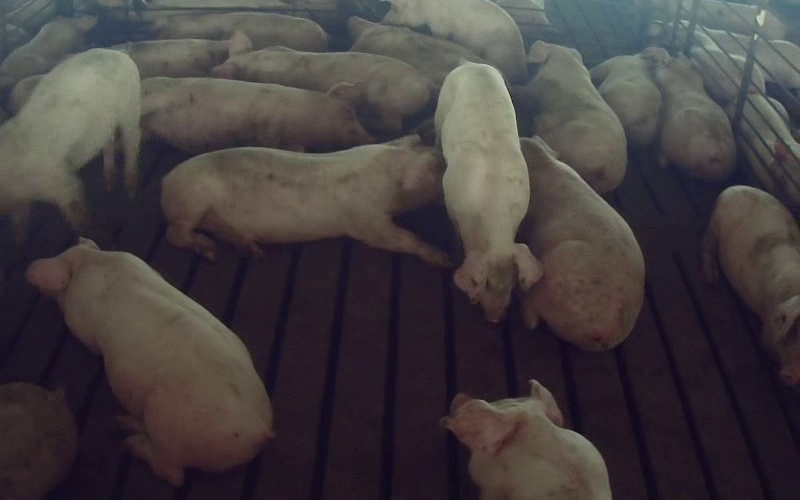pig: (28, 240, 272, 484), (161, 136, 448, 264), (435, 63, 542, 322), (0, 49, 140, 241), (520, 138, 644, 349), (211, 31, 437, 136), (443, 380, 611, 499), (703, 186, 799, 384), (141, 77, 373, 152), (522, 41, 626, 192), (382, 0, 526, 82), (655, 57, 736, 181), (348, 16, 484, 86), (590, 47, 668, 146), (155, 13, 326, 51), (0, 16, 96, 80), (112, 39, 228, 78)
